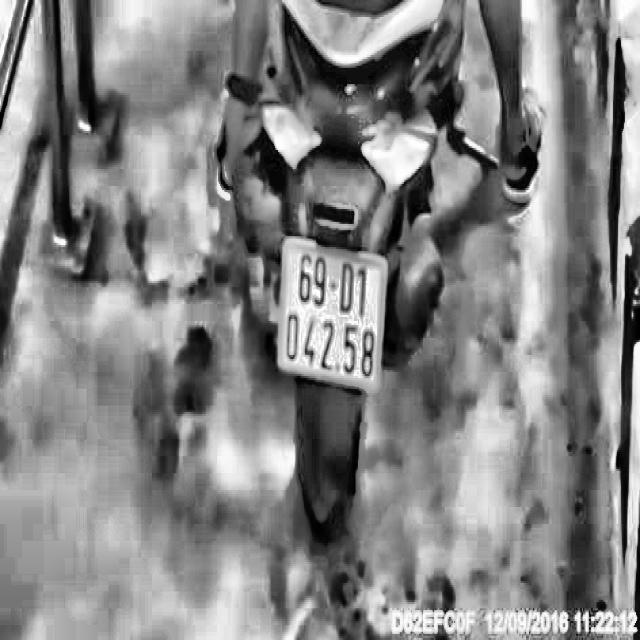plate: (273, 228, 387, 393)
